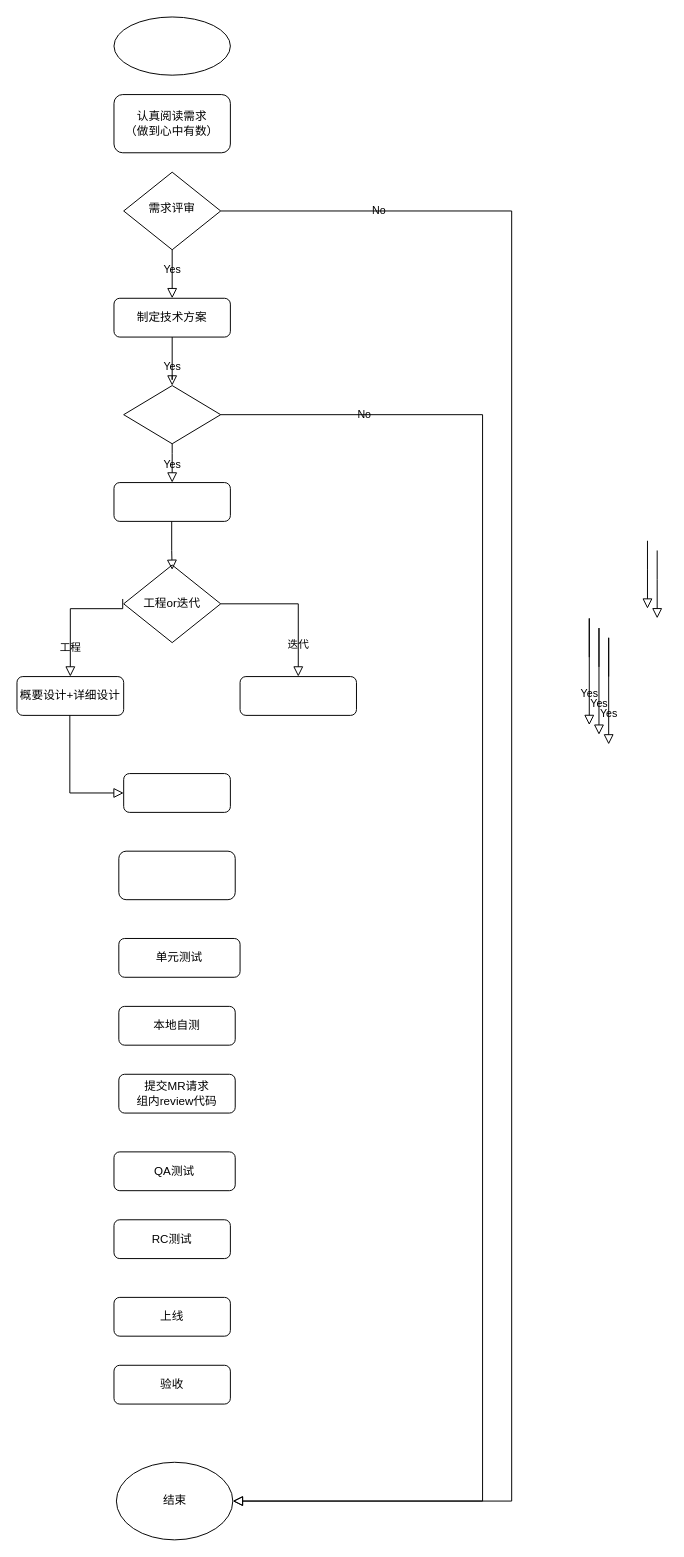
The diagram is 684 pixels wide and 1557 high, and some of its shapes have lost their labels. Here are the shapes that lost their labels. From the top down, the centre of each, then its label:
At pixel 171 45: "接到需求".
At pixel 172 414: "技术方案评审".
At pixel 171 501: "确定排期".
At pixel 297 695: "迭代设计".
At pixel 176 792: "组内设计评审".
At pixel 176 875: "基于master分支 拉新开发分支代码开发".
